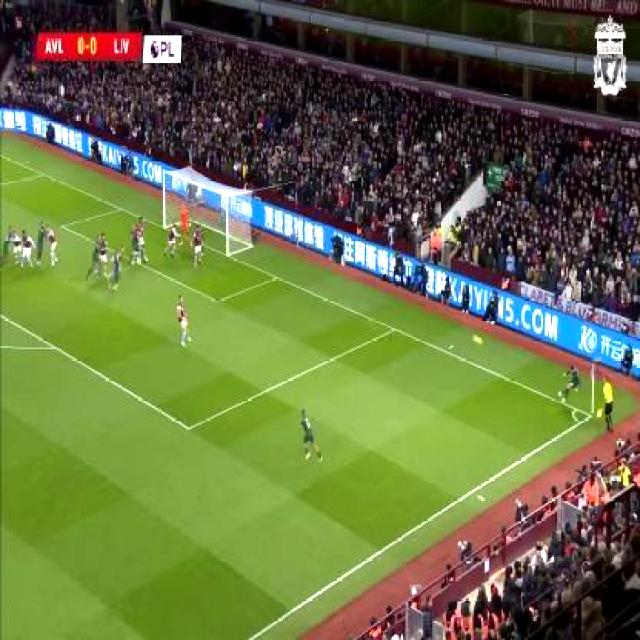bigarea_bottom_inner: (180, 416, 200, 442)
bigarea_bottom_outter: (386, 317, 400, 340)
bigarea_top_outter: (35, 168, 48, 185)
bottom_arc_area_intersection: (46, 340, 63, 355)
corner: (577, 403, 598, 431)
smallarea_bottom_inner: (208, 292, 228, 310)
smallarea_bottom_outter: (270, 269, 282, 286)
smallarea_top_inner: (57, 218, 72, 236)
smallarea_top_outter: (114, 202, 126, 216)
